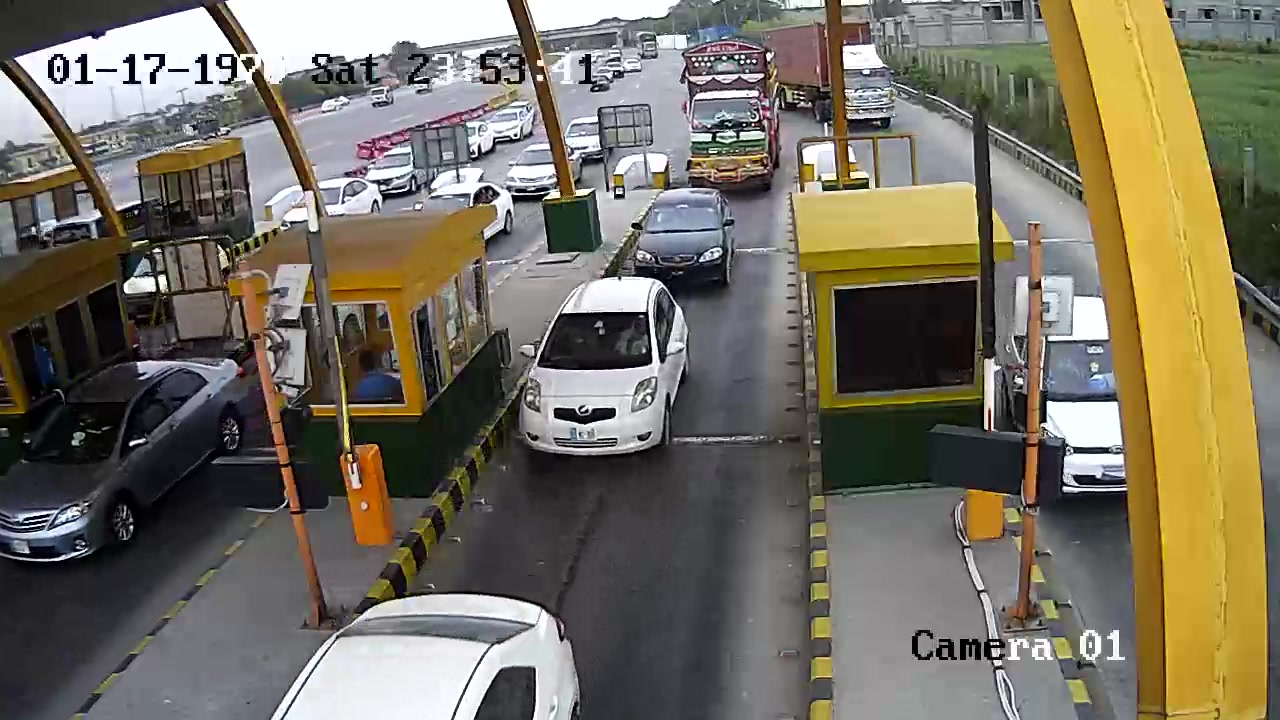F1: (511, 275, 694, 464)
